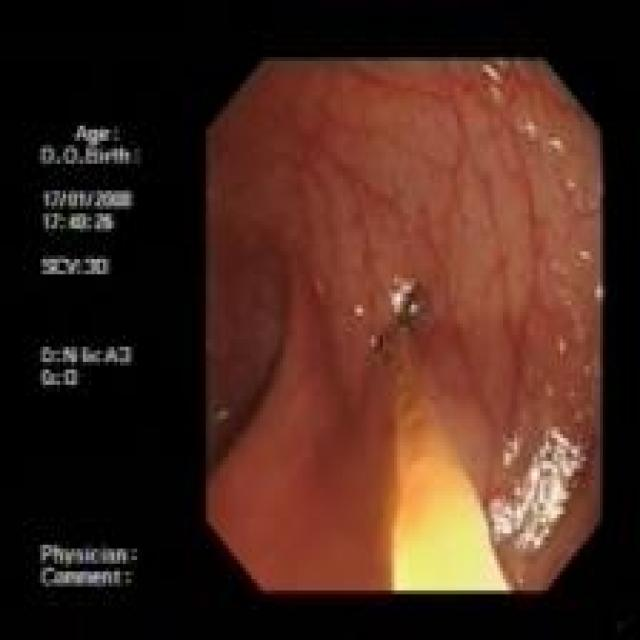color misalignment: (38, 120, 143, 598)
contrast: (216, 393, 260, 452)
instrument: (366, 273, 510, 590)
saturation: (392, 468, 508, 590)
specularity: (490, 427, 590, 564), (497, 428, 522, 469), (394, 271, 415, 297), (405, 296, 423, 321), (388, 290, 405, 313)
